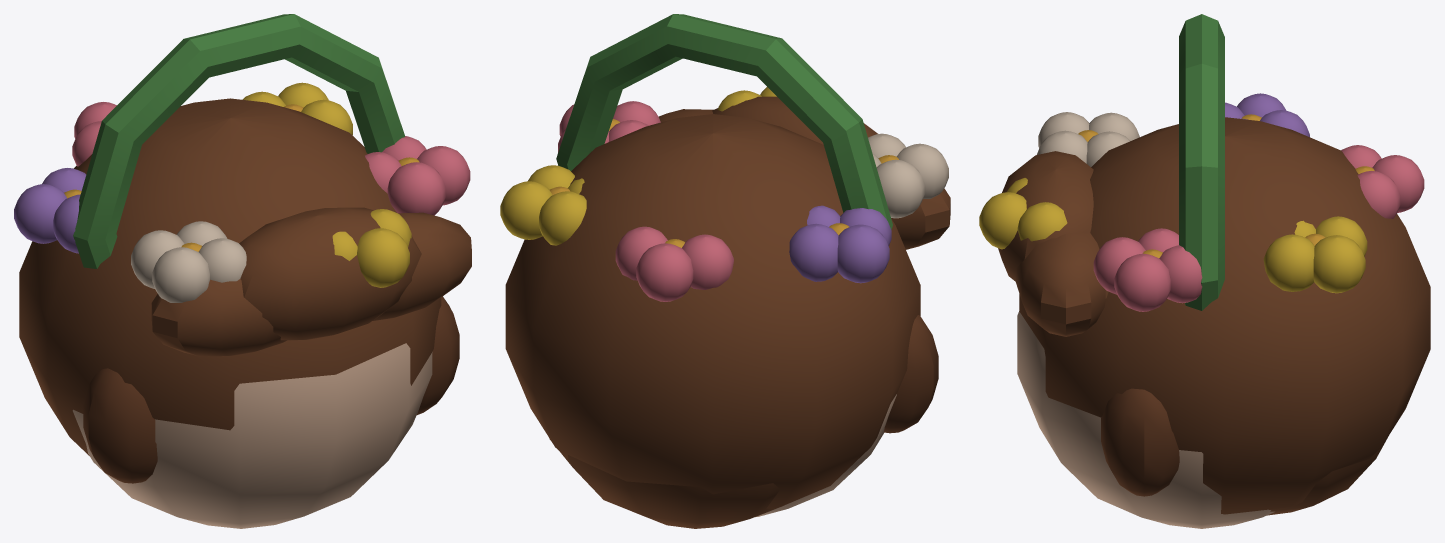
Rendered from p-boy-flower-head.glb.
The picture shows the model from 3 angles, left to right: view 1: azimuth 30°, elevation 25°; view 2: azimuth 150°, elevation 25°; view 3: azimuth 270°, elevation 25°; orthographic projection. The views are drawn at different scales.
Parts seen in each view (by area): view 1: player_p-boy-flower-head; view 2: player_p-boy-flower-head; view 3: player_p-boy-flower-head.
Part boxes in pixels (bbox=[...]): player_p-boy-flower-head: bbox=[14, 14, 471, 528]; player_p-boy-flower-head: bbox=[500, 14, 950, 528]; player_p-boy-flower-head: bbox=[979, 14, 1430, 528].
Bounding box in the file's own units: 0.4181 × 0.4988 × 0.4318.
